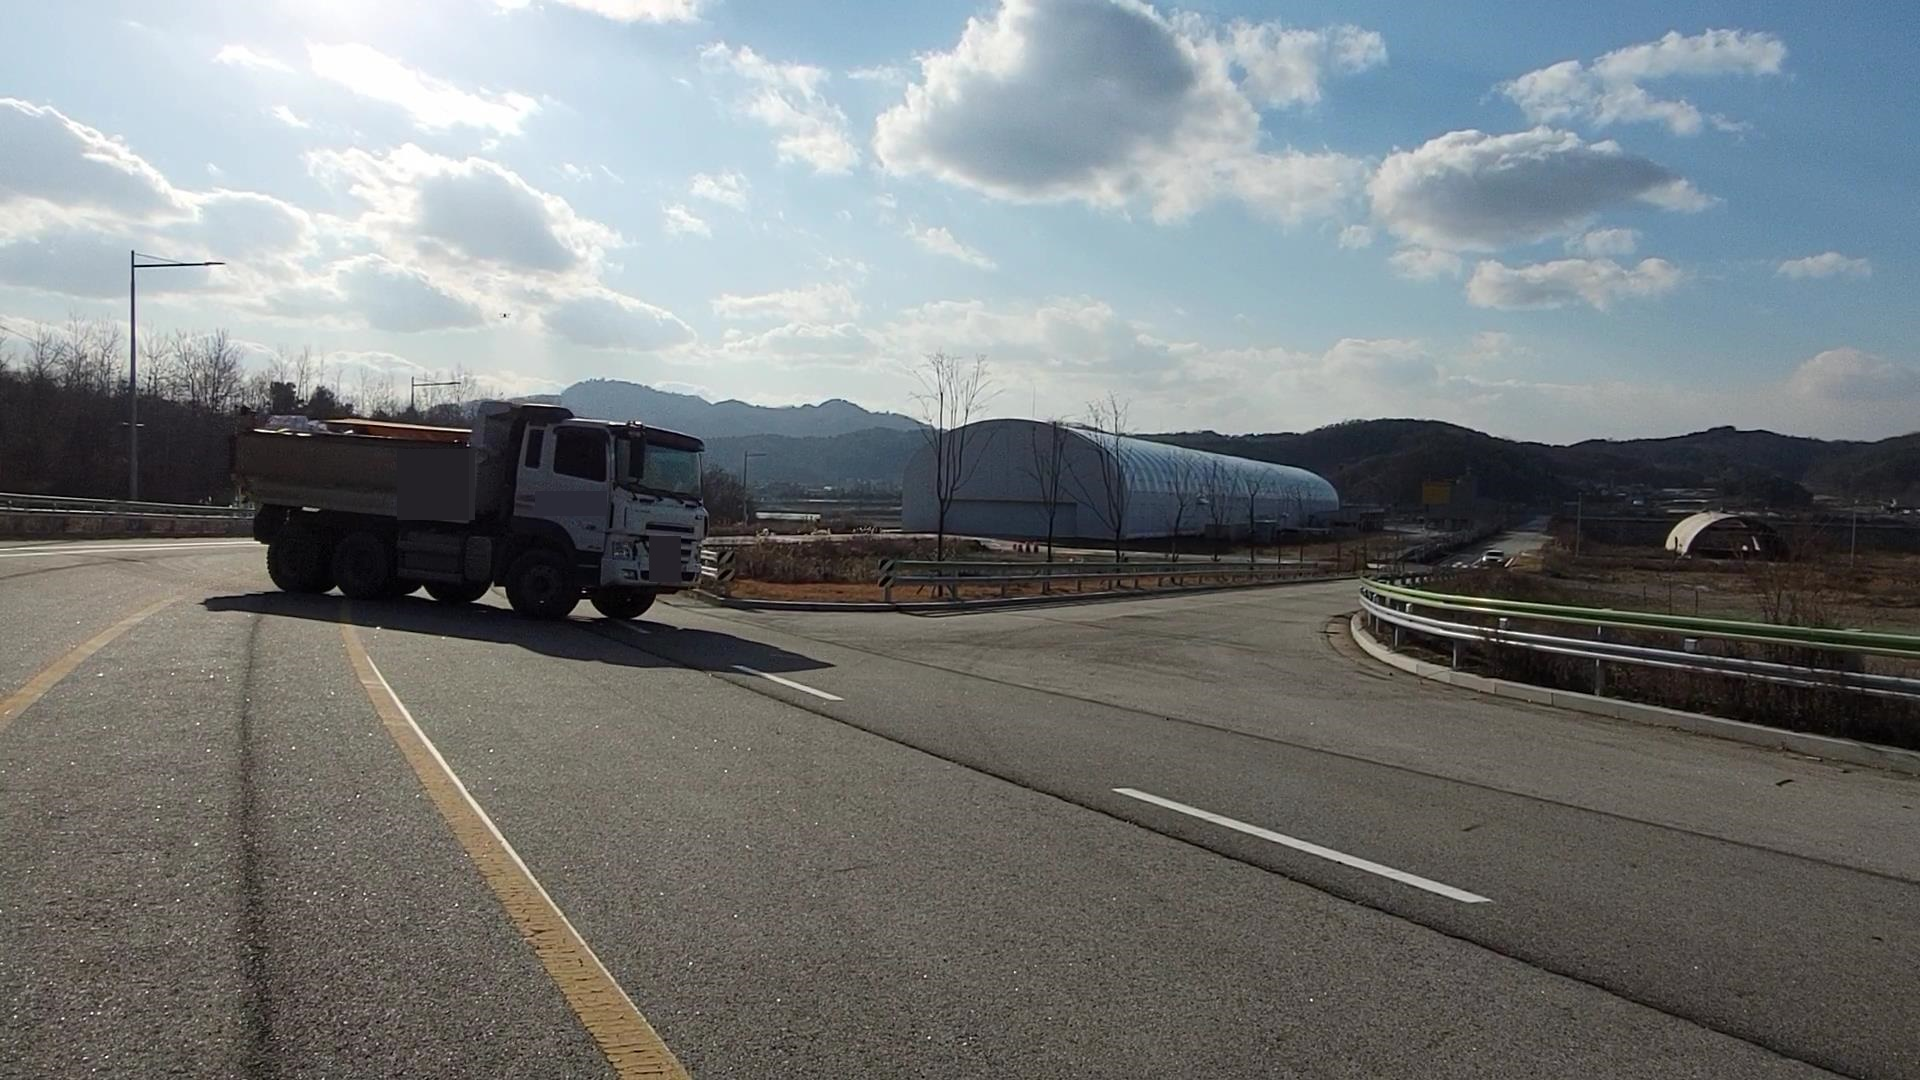불법차량: (228, 400, 711, 625)
